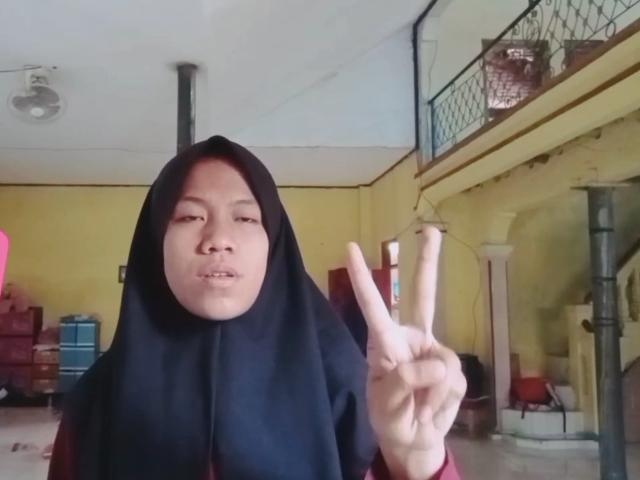V: (338, 220, 484, 442)
